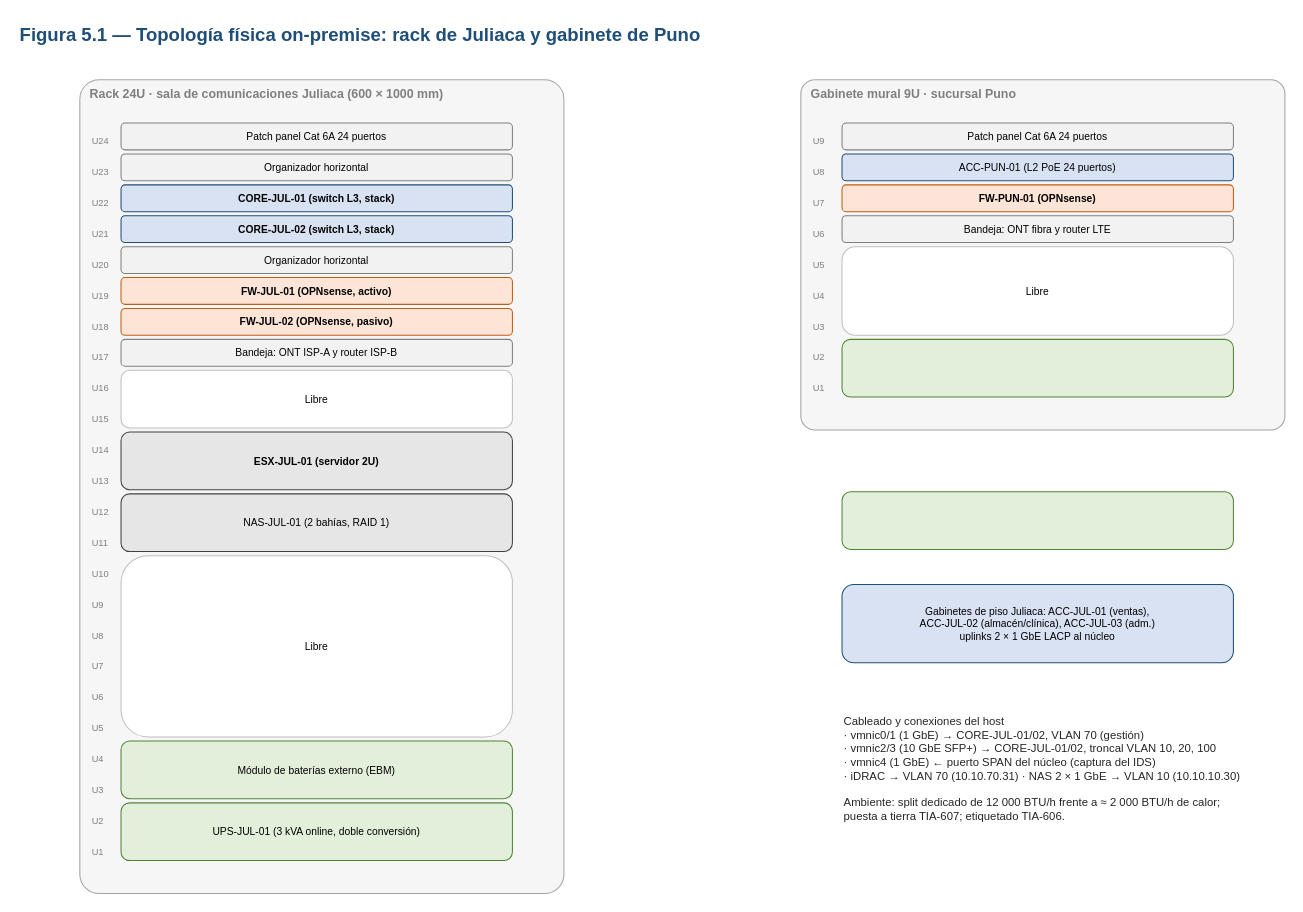
This 1303x912 diagram has some shape labels left out. Here are the shapes that lost their labels. From the top down, the centre of each, then its label:
At point 1037,367: "UPS-PUN-01 (1 kVA online)".
At point 1037,520: "PDU A y PDU B (0U, verticales) fuentes duplicadas del ESXi a ramas distintas".
